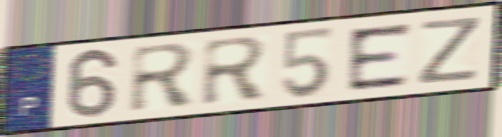5: (279, 24, 337, 101)
6: (65, 46, 121, 121)
E: (346, 20, 414, 94)
R: (199, 34, 271, 109), (127, 41, 199, 116)
Z: (414, 14, 485, 87)
